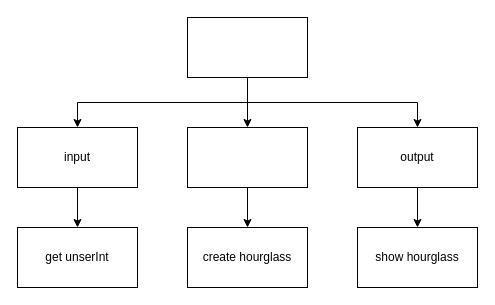
Image size: 495x305. Some labels were removed from this diagram. The shapes that lost their labels are listed below. From the top down, each one's centre as x and y in pixels, then its label:
the point at 247,47: hourglass
the point at 247,157: process
